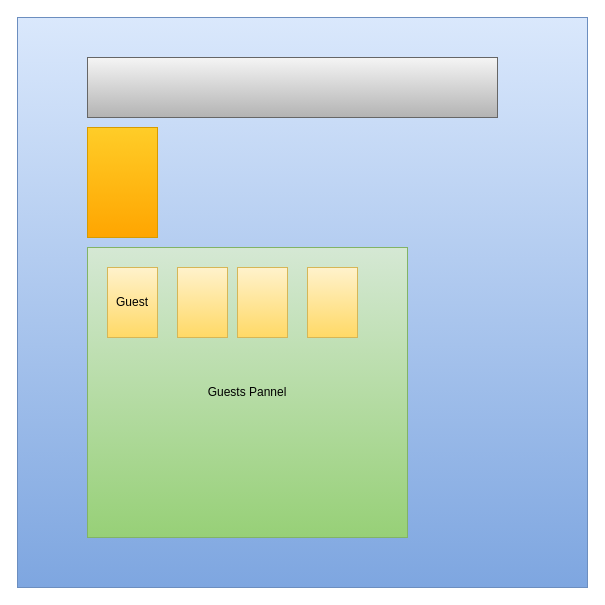
This 605x605 diagram has some shape labels left out. The centre of each missing label's shape, as x and y in pixels:
"Form" goes at point 122,182.
"Header" goes at point 292,87.
